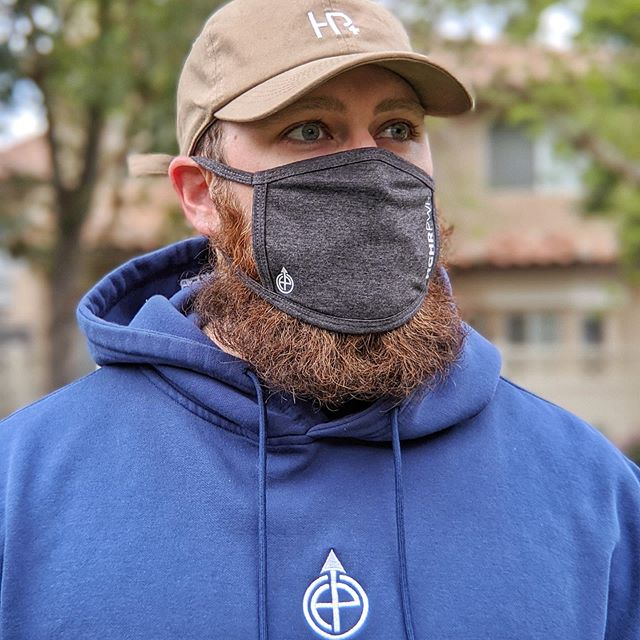homemade: (187, 149, 485, 329)
